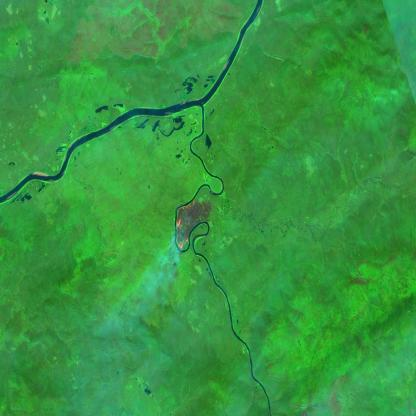fire: (171, 189, 214, 256)
